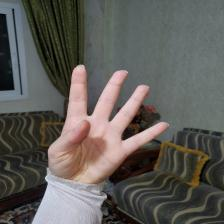four: (52, 63, 172, 196)
